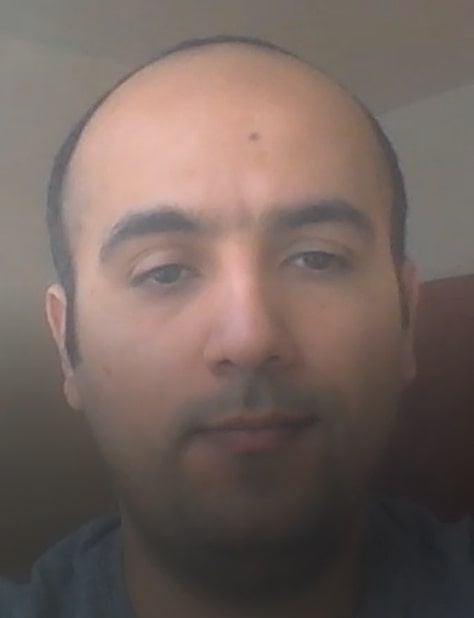Not Sleeping: (100, 199, 386, 318)
